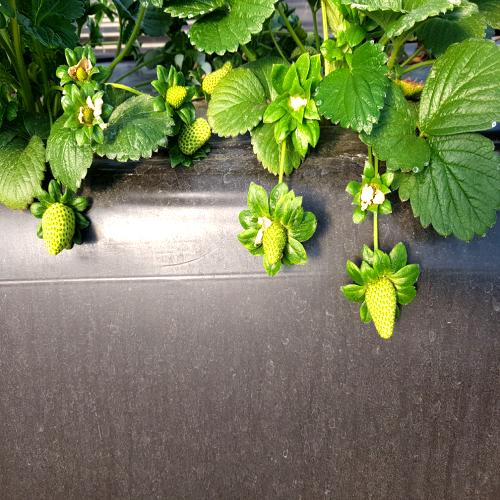unripe: (358, 272, 402, 348), (38, 196, 80, 264)
